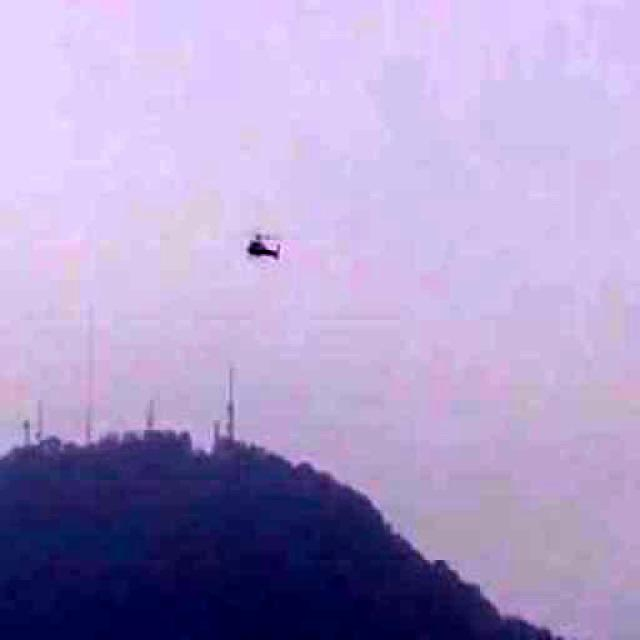drone: (209, 198, 301, 284)
